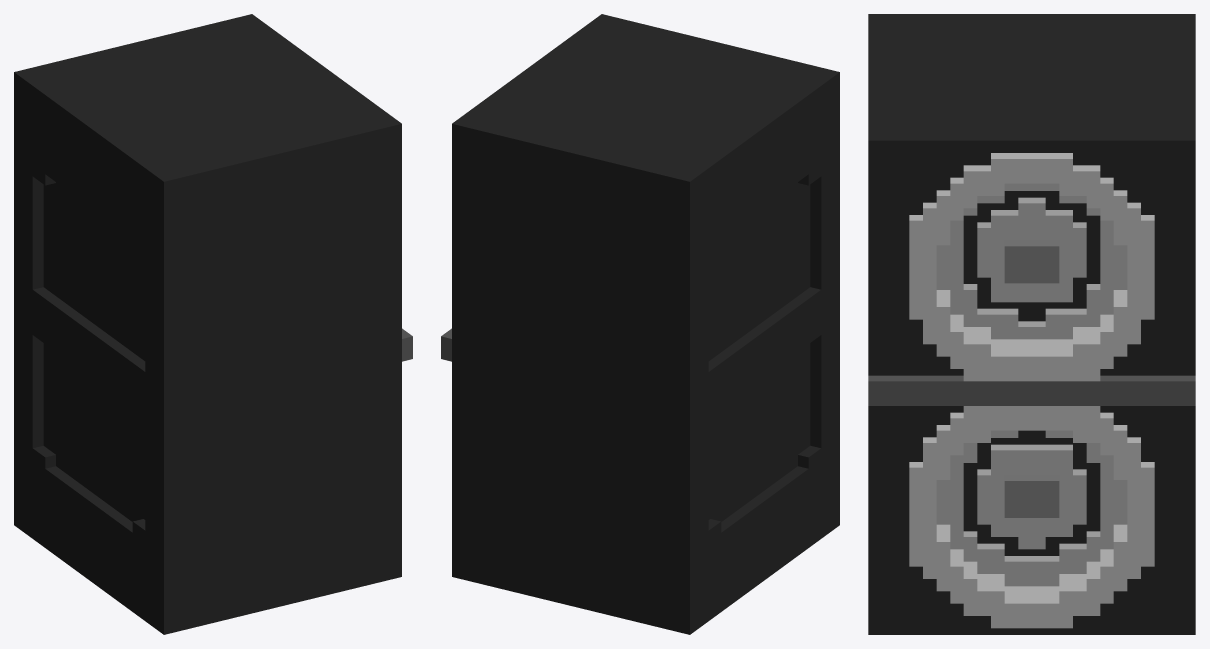
File: Speaker.glb
The picture shows the model from 3 angles, left to right: view 1: azimuth 30°, elevation 25°; view 2: azimuth 150°, elevation 25°; view 3: azimuth 270°, elevation 25°; orthographic projection. The views are drawn at different scales.
Visible parts, largest first — view 1: Untitled; view 2: Untitled; view 3: Untitled.
Part boxes in pixels (<box>): Untitled: <box>14,14,412,634</box>; Untitled: <box>441,14,839,634</box>; Untitled: <box>868,14,1195,634</box>.
Bounding box in the file's own units: 2.3 × 4 × 2.4.
Materials: 1 (1 with a texture image).
